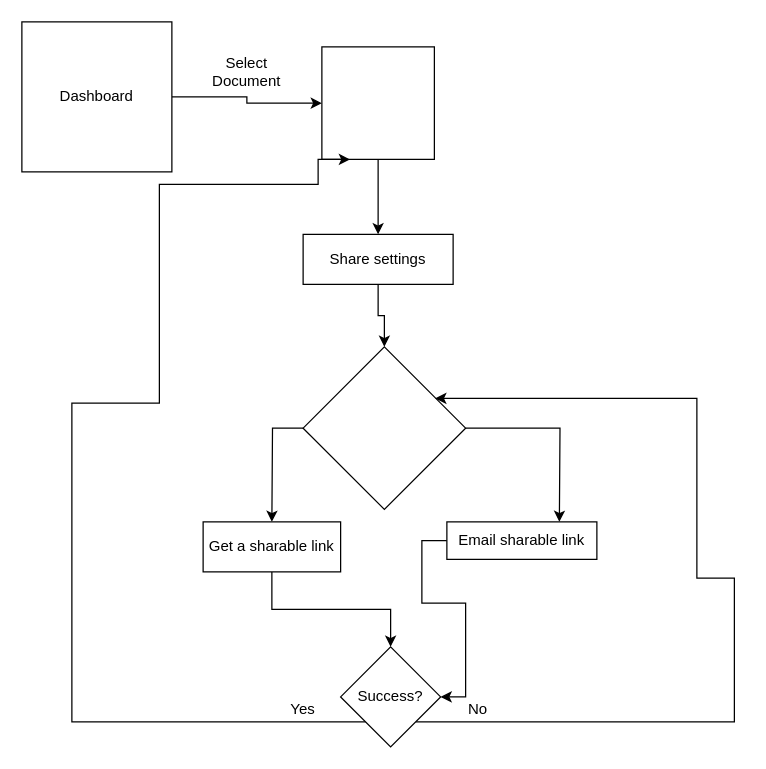
Some shapes in this 766 by 769 pixel diagram are drawn without their labels. Each missing label, with the centre of its shape:
Document: the point at 377,102
How do you want to share?: the point at 384,427
